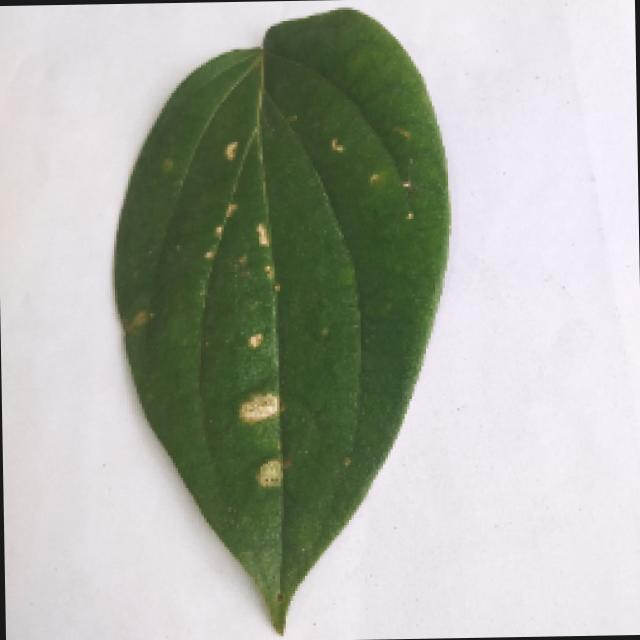pollu-disease: (85, 17, 478, 634)
